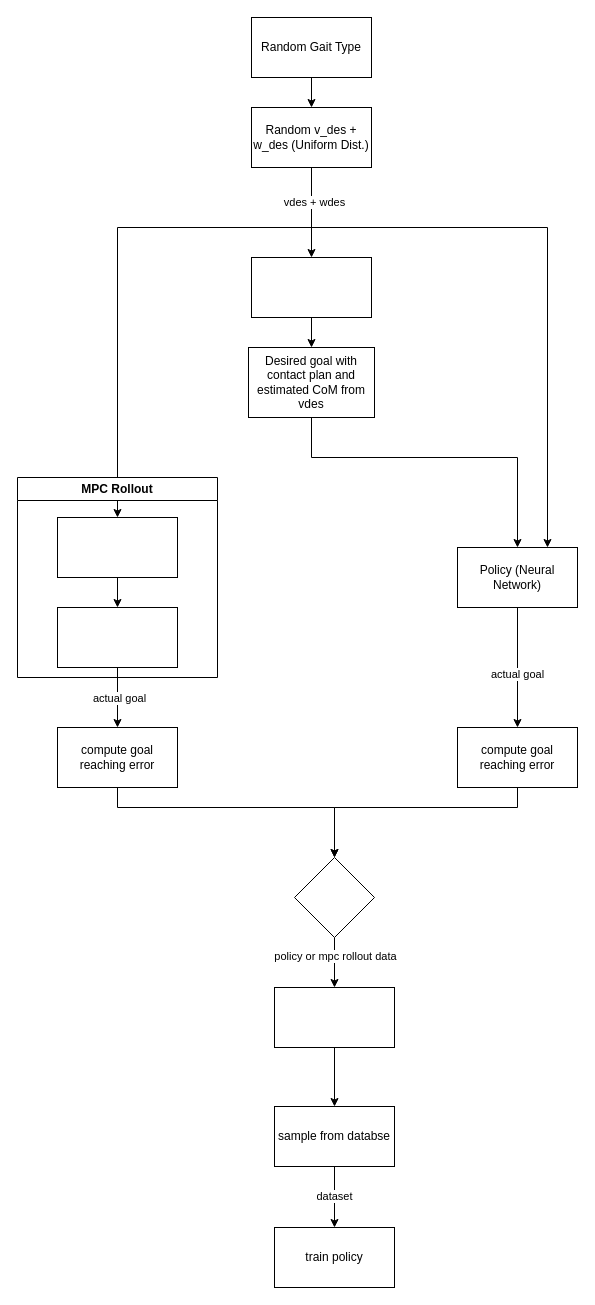
This 595x1305 diagram has some shape labels left out. Each missing label, with the centre of its shape:
"min(goal reaching e)" goes at point 334,897.
"MPC" goes at point 117,637.
"Raibert Planner (replanning for MPC stability)" goes at point 117,547.
"Raibert Planner for Desired Contact Plan" goes at point 311,287.
"save either policy or mpc to database (BC Memory)" goes at point 334,1017.
